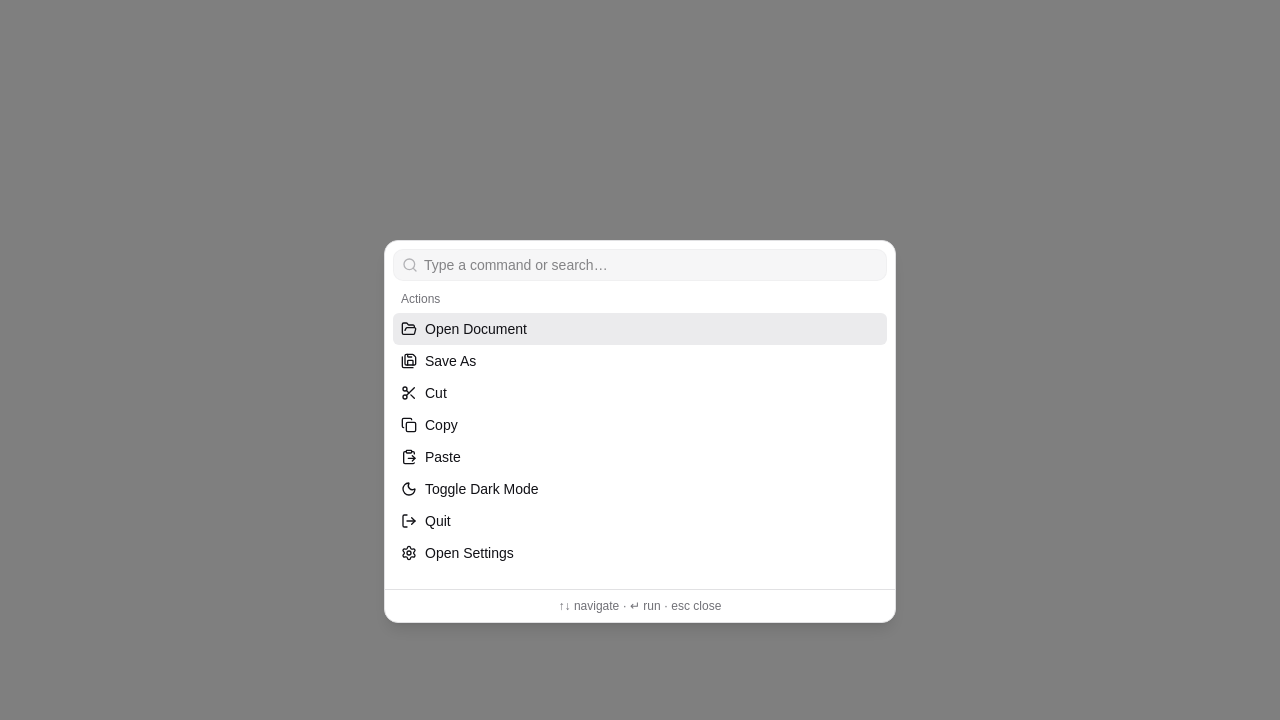
Scenario: palette UI › search misses render the empty state; footer hint line is present
The image size is (1280, 720).
Type "zzzz-no-such-command" into the dropdown with test id "palette-input".
click(652, 265); type("zzzz-no-such-command")  # box [418, 255, 886, 275]
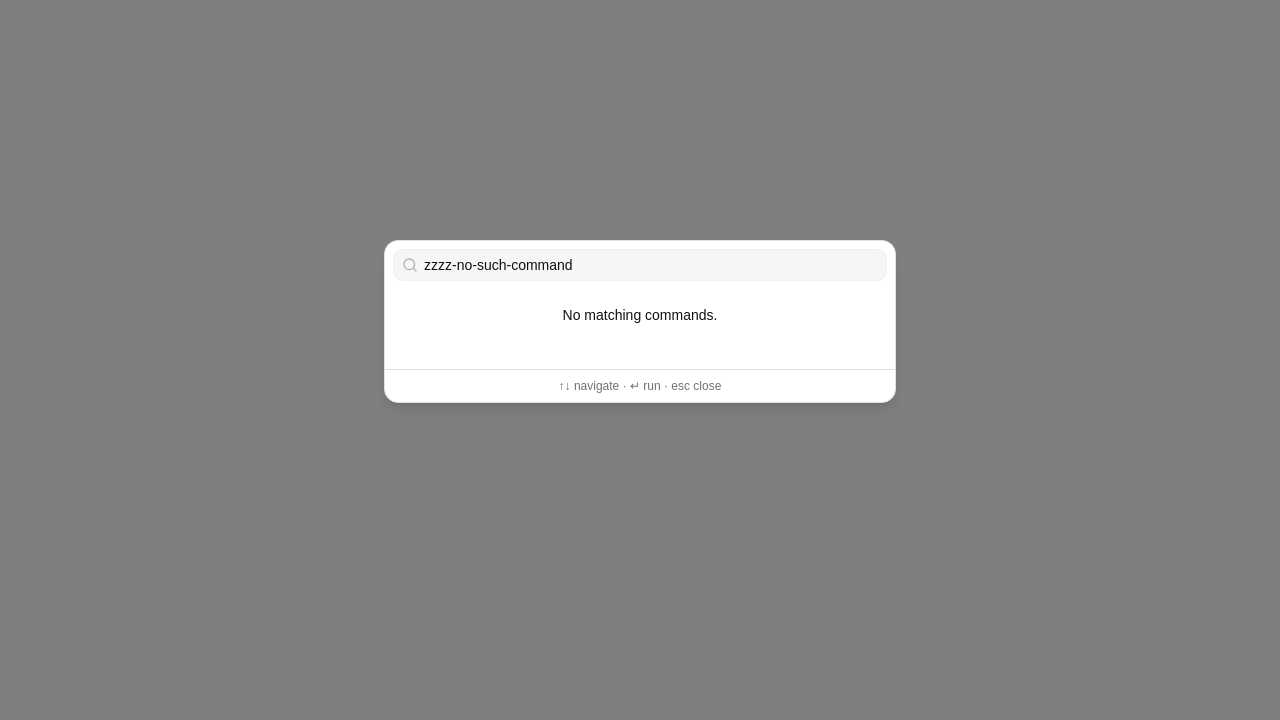
Expected: the text with test id "palette-footer" reads "↑↓ navigate · ↵ run · esc close", [559, 379, 721, 393]
Expected: the text "No matching commands." is shown, [563, 307, 717, 323]
